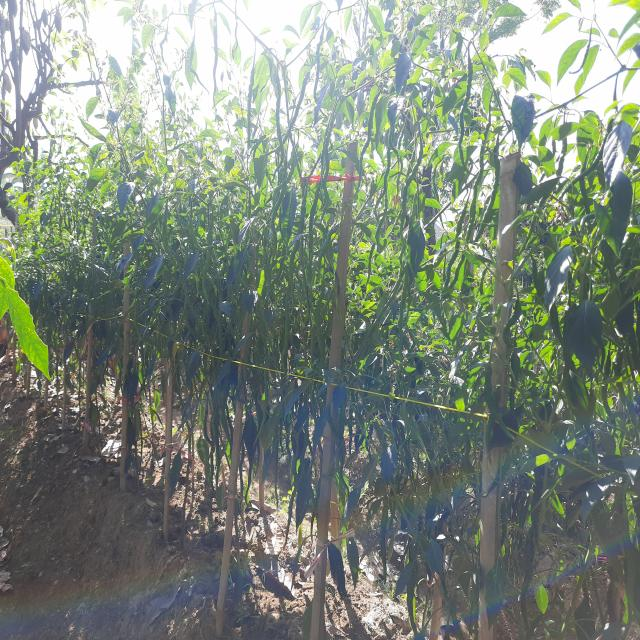sehat: (597, 117, 637, 193), (573, 293, 605, 365), (391, 52, 419, 102), (545, 248, 565, 314)
